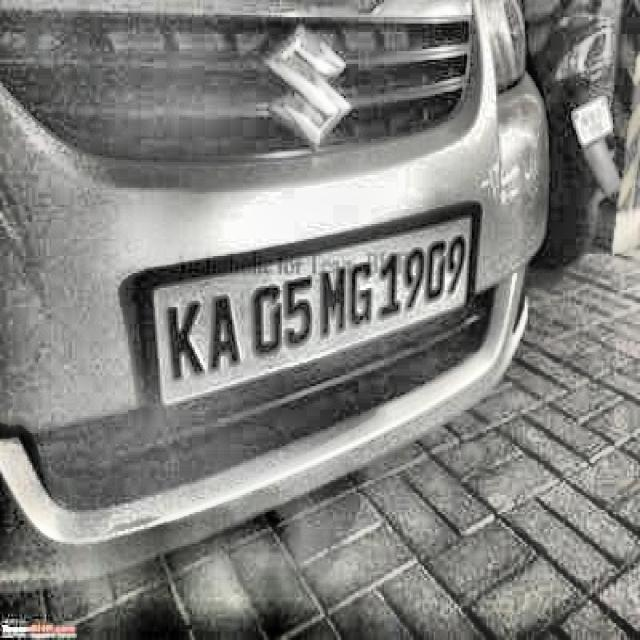license_plate: (136, 232, 483, 379)
